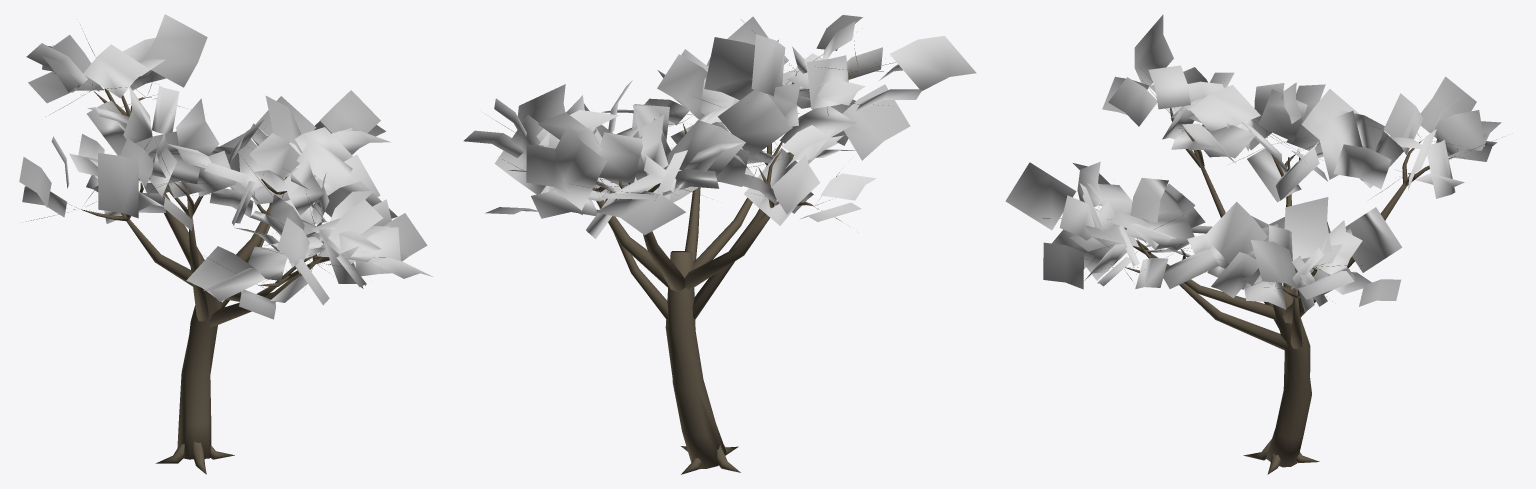
Rendered from V7_CheneVert_1_Niveau2.fbx.
3 renders of one model, left to right at view 1: azimuth 30°, elevation 25°; view 2: azimuth 150°, elevation 25°; view 3: azimuth 270°, elevation 25°, orthographic. The views are drawn at different scales.
Parts seen in each view (by area): view 1: V7_CheneVert_1_Detail2; view 2: V7_CheneVert_1_Detail2; view 3: V7_CheneVert_1_Detail2.
Boxes of the visible parts, bbox=[...] form: V7_CheneVert_1_Detail2: bbox=[19, 14, 432, 474]; V7_CheneVert_1_Detail2: bbox=[463, 15, 976, 474]; V7_CheneVert_1_Detail2: bbox=[1005, 14, 1502, 474].
Bounding box in the file's own units: 654 × 648 × 810.
